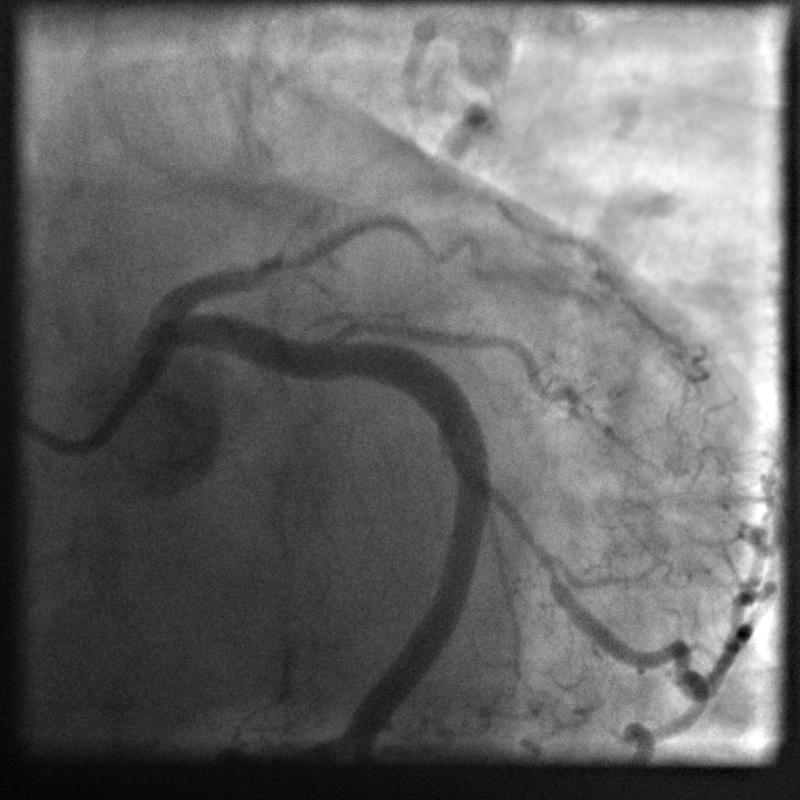Stenosis: (484, 464, 565, 601)
